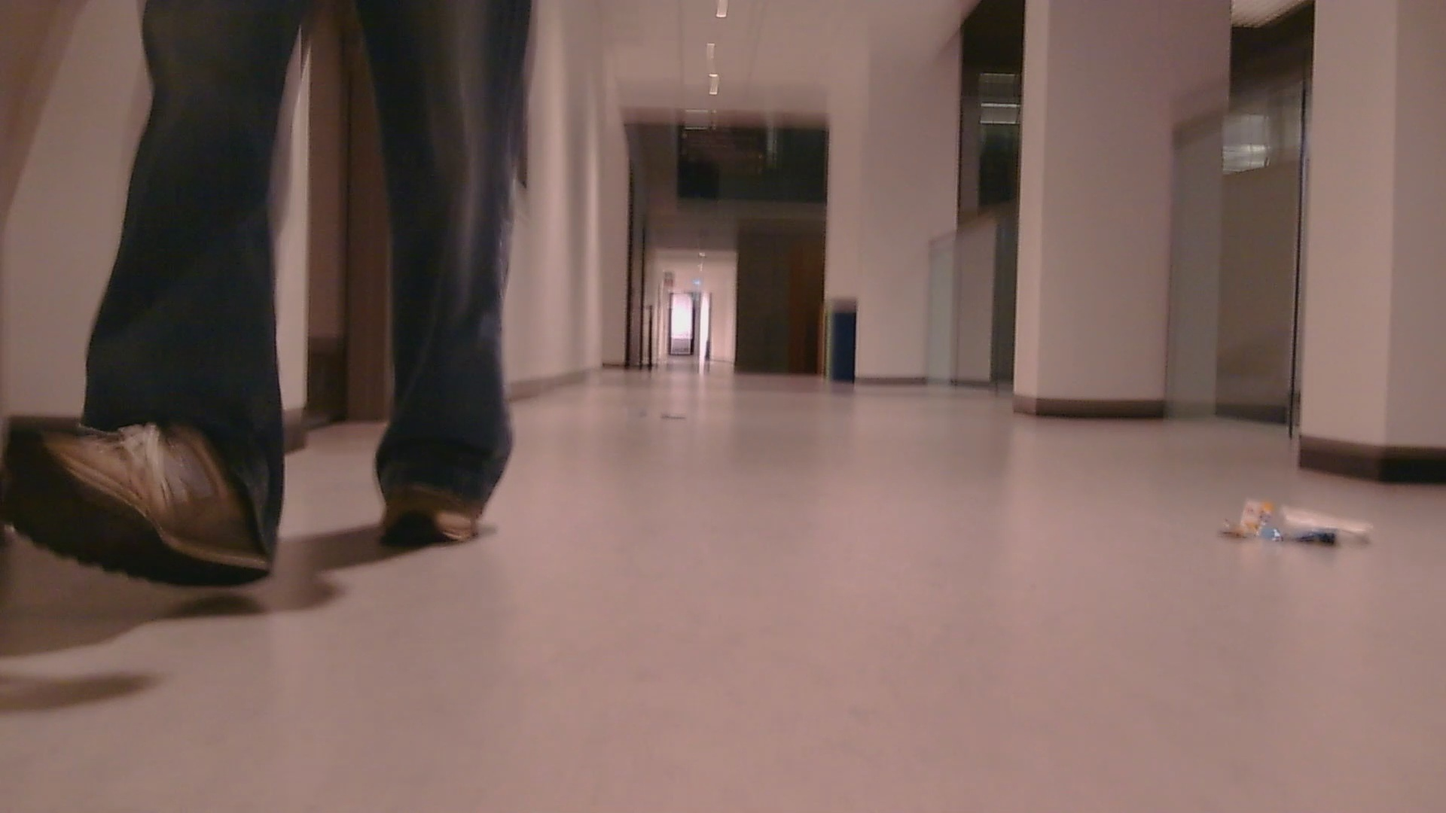carton: (1225, 474, 1375, 570)
